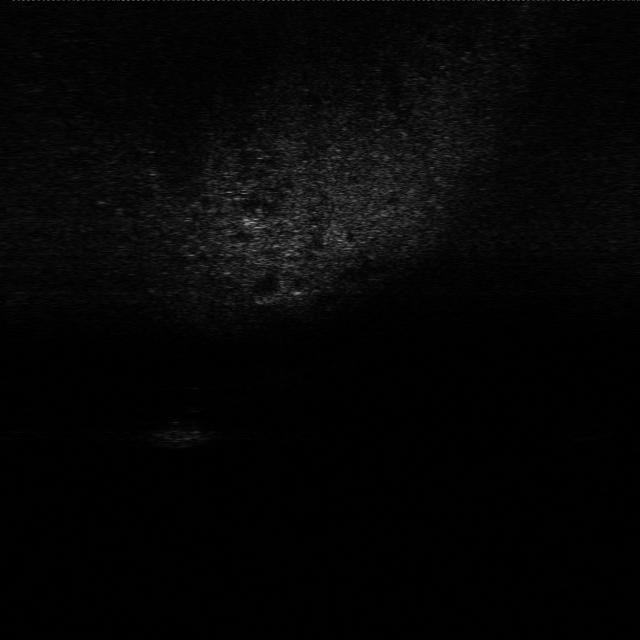circle cage: (144, 414, 216, 454)
